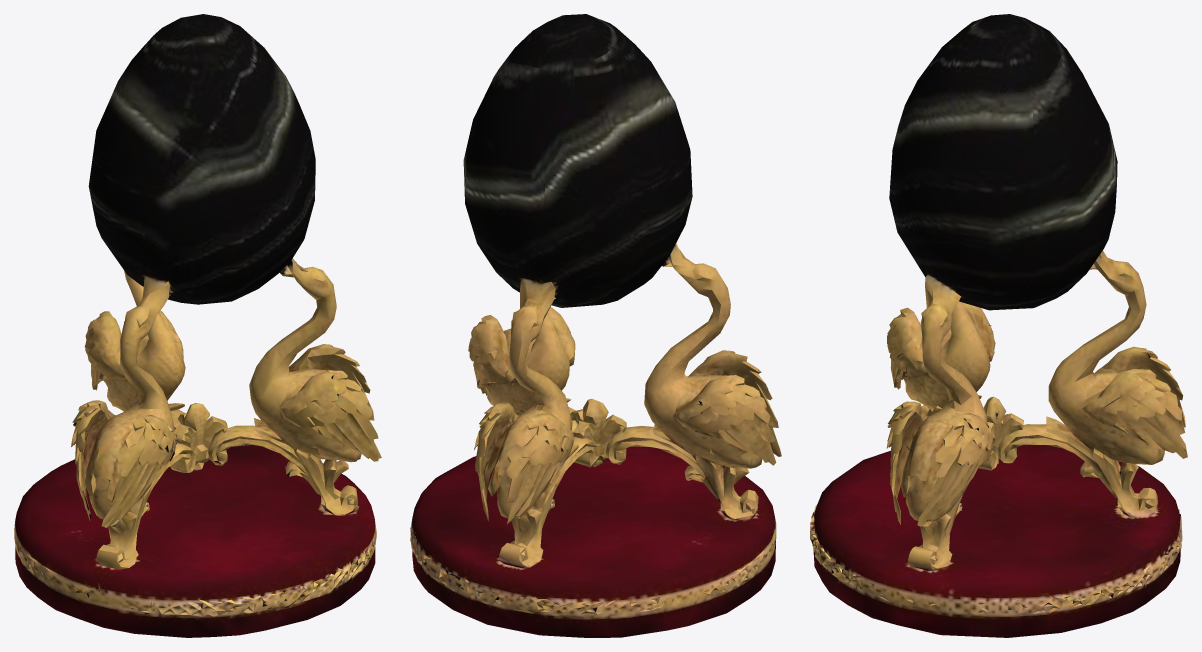
File: P18_world_egg_game.glb
3 views of the same model, side by side, from view 1: azimuth 30°, elevation 25°; view 2: azimuth 150°, elevation 25°; view 3: azimuth 270°, elevation 25° (orthographic).
Visible parts, largest first — view 1: P18_world_egg; view 2: P18_world_egg; view 3: P18_world_egg.
Boxes of the visible parts, bbox=[...] form: P18_world_egg: bbox=[14, 14, 381, 637]; P18_world_egg: bbox=[410, 14, 781, 637]; P18_world_egg: bbox=[810, 14, 1187, 637].
Size of the model in its own units: 0.672 by 1.1 by 0.6852.
Materials: 1 (1 with a texture image).
